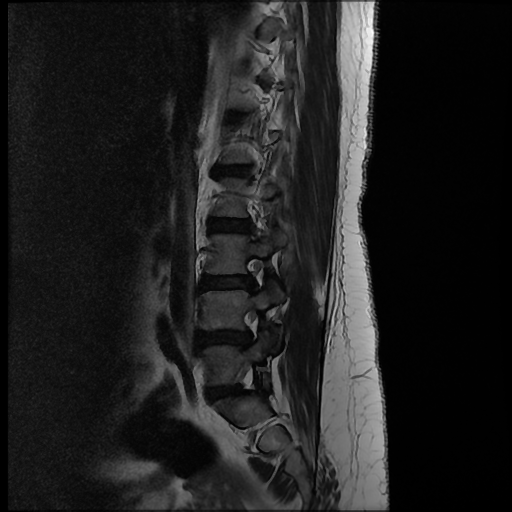RFS0: (230, 300, 267, 353), (238, 248, 271, 301)
